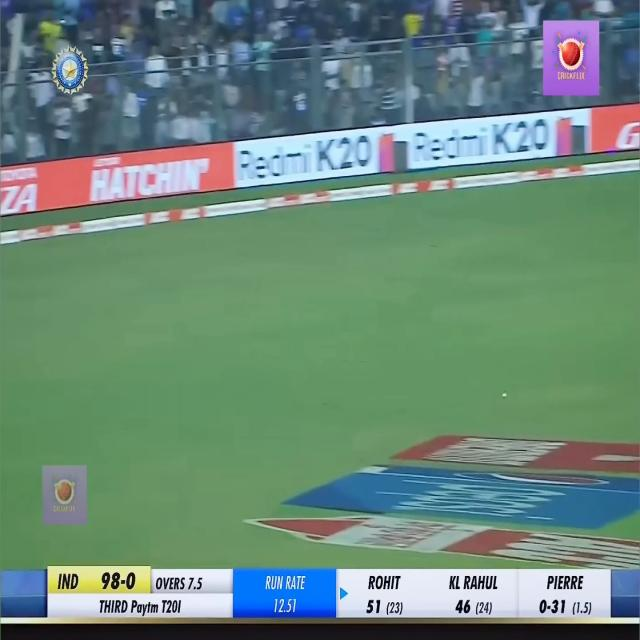fully_visible: (131, 596, 161, 620)
